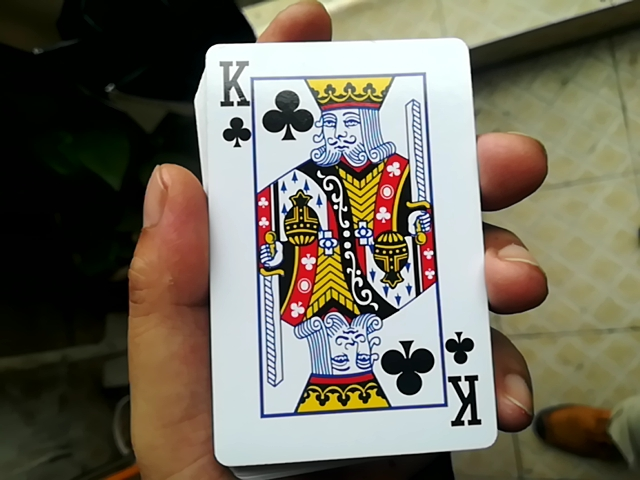mh k: (180, 47, 496, 468)
